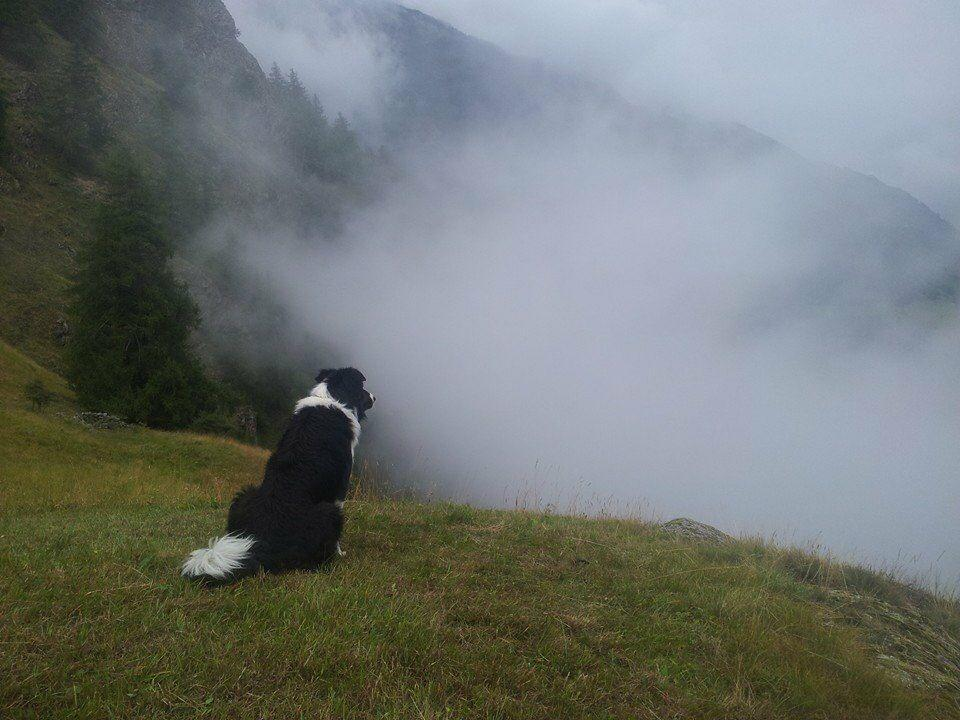adult_dog: (182, 366, 377, 583)
